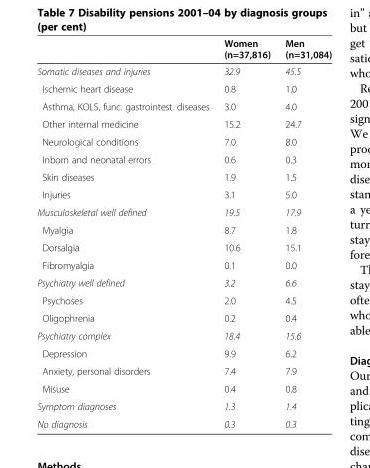table: (36, 37, 331, 429)
table column: (36, 37, 216, 429), (216, 37, 277, 429), (277, 37, 331, 429)
table column header: (36, 37, 331, 62)
table row: (36, 37, 331, 62), (36, 79, 331, 97), (36, 114, 331, 132), (36, 132, 331, 150), (36, 167, 331, 185), (36, 185, 331, 203), (36, 220, 331, 238), (36, 238, 331, 256), (36, 273, 331, 291), (36, 308, 331, 326), (36, 326, 331, 344), (36, 361, 331, 379), (36, 379, 331, 397), (36, 62, 331, 79), (36, 97, 331, 114), (36, 150, 331, 167), (36, 203, 331, 220), (36, 256, 331, 273), (36, 291, 331, 308), (36, 344, 331, 361), (36, 397, 331, 414), (36, 414, 331, 429)
